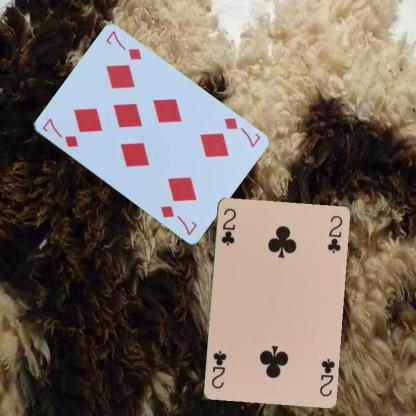2c: (316, 355, 336, 398), (219, 205, 238, 247)
7d: (221, 115, 261, 149), (39, 115, 79, 148)
